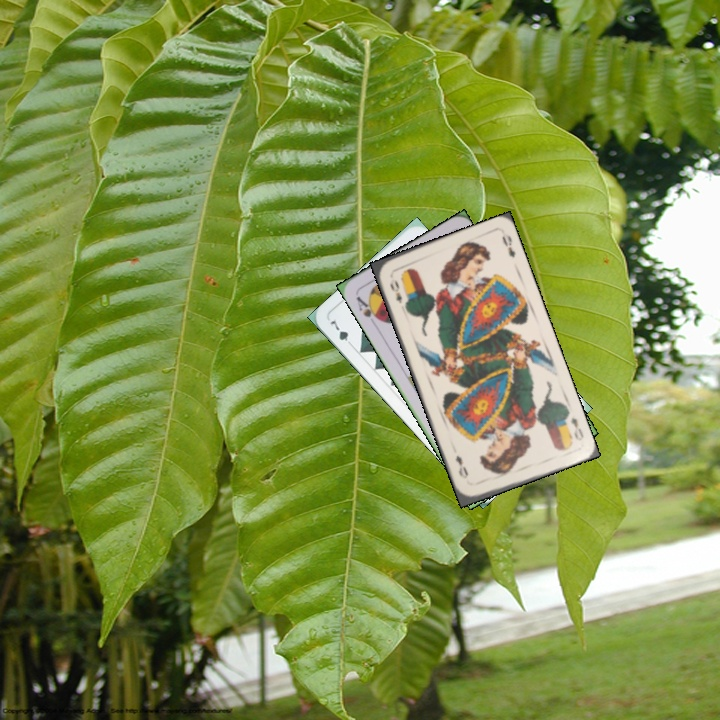EO: (386, 276, 405, 306), (567, 413, 586, 443)
G7: (326, 314, 356, 350)
SA: (352, 292, 384, 324)
